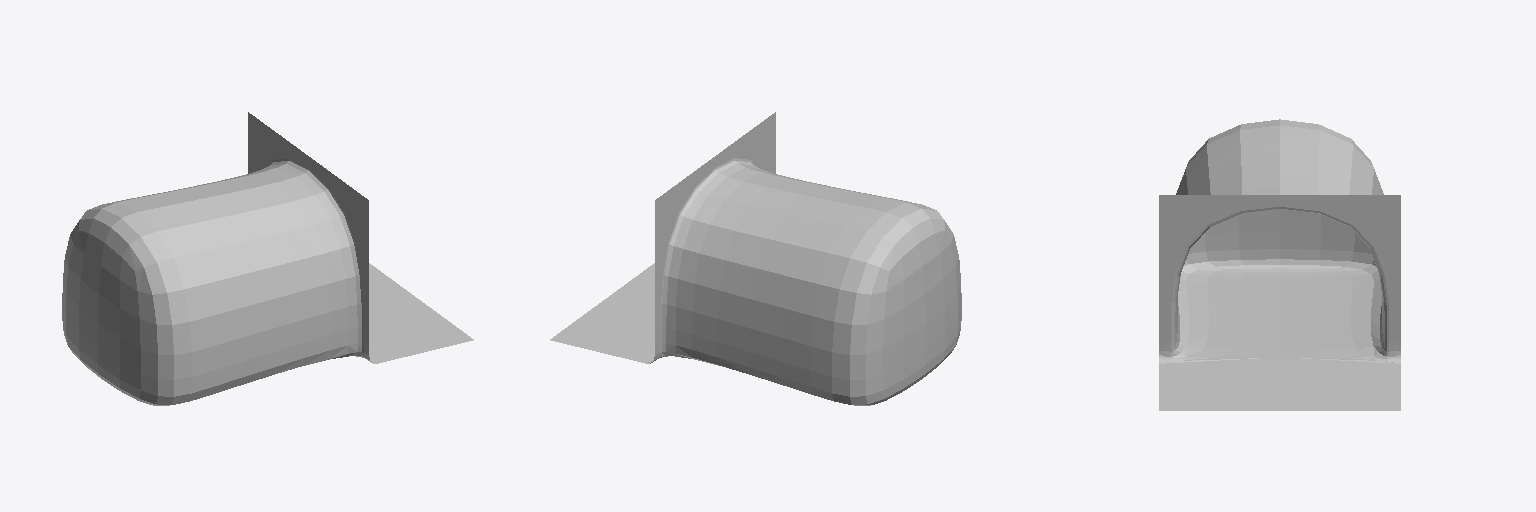
Rendered from the_hole.obj.
3 renders of one model, left to right at view 1: azimuth 30°, elevation 25°; view 2: azimuth 150°, elevation 25°; view 3: azimuth 270°, elevation 25°, orthographic.
Visible parts, largest first — view 1: door; view 2: door; view 3: door.
Boxes of the visible parts, <box> form: door: <box>62,112,473,405</box>; door: <box>550,112,961,405</box>; door: <box>1159,119,1400,410</box>.
Size of the model in its own units: 6.01 by 3.16 by 4.